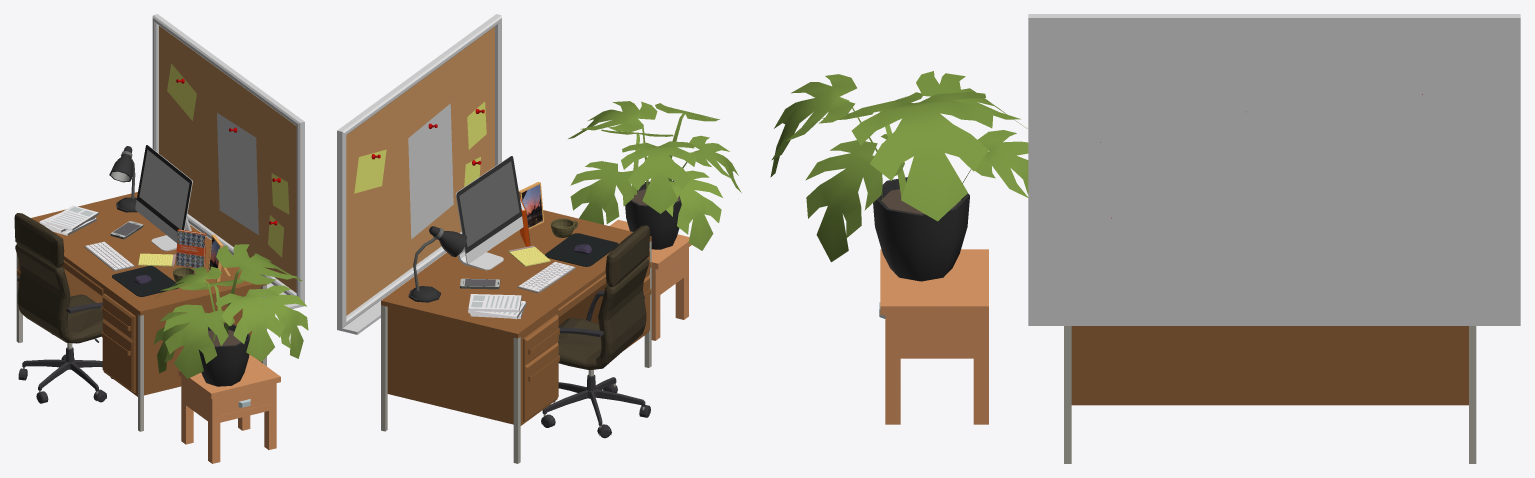
File: scene-full-transformed.glb
3 views of the same model, side by side, from view 1: azimuth 30°, elevation 25°; view 2: azimuth 150°, elevation 25°; view 3: azimuth 270°, elevation 25° (orthographic). The views are drawn at different scales.
Visible parts, largest first — view 1: Blank Picture Frame|Node.007|Dupli|, Message_Board, Monitor_Plane, Monitor.001|iMac|Dupli|, VAP-cover; view 2: Blank Picture Frame|Node.007|Dupli|, Message_Board, Monitor_Plane, Monitor.001|iMac|Dupli|, cornell-tech-sky; view 3: Message_Board, Blank Picture Frame|Node.007|Dupli|.
Boxes of the visible parts, x1,y1,x2,y2 form: Blank Picture Frame|Node.007|Dupli|: (14,146,308,463); Message_Board: (152,14,304,309); Monitor_Plane: (113,149,189,235); Monitor.001|iMac|Dupli|: (135,145,192,251); VAP-cover: (176,231,204,267); Blank Picture Frame|Node.007|Dupli|: (381,101,741,463); Message_Board: (337,14,501,334); Monitor_Plane: (459,161,519,286); Monitor.001|iMac|Dupli|: (455,156,523,270); cornell-tech-sky: (521,184,542,227); Message_Board: (1028,14,1520,325); Blank Picture Frame|Node.007|Dupli|: (770,71,1476,463).
Bounding box in the file's own units: 1.65 × 2.17 × 3.15.
Materials: 6 (6 with a texture image).
